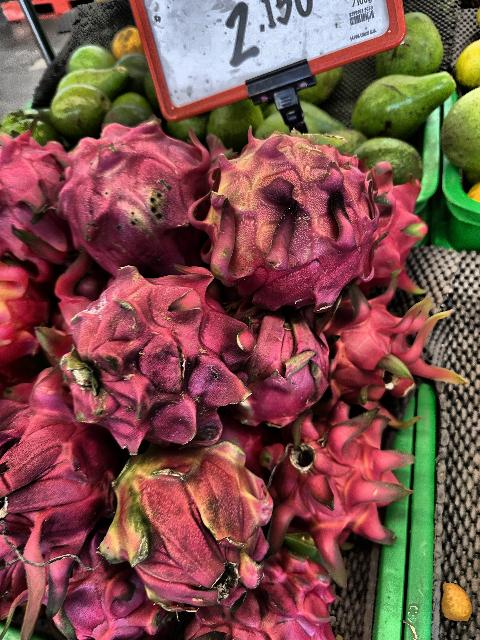buah-naga-belum-matang: (210, 132, 378, 306), (111, 450, 270, 612)
buah-naga-matang: (38, 254, 268, 452), (0, 367, 116, 581), (50, 122, 206, 264), (271, 428, 417, 550), (321, 292, 457, 416), (58, 524, 174, 640), (189, 558, 335, 640), (0, 121, 68, 282), (235, 304, 329, 416), (363, 154, 427, 302)
